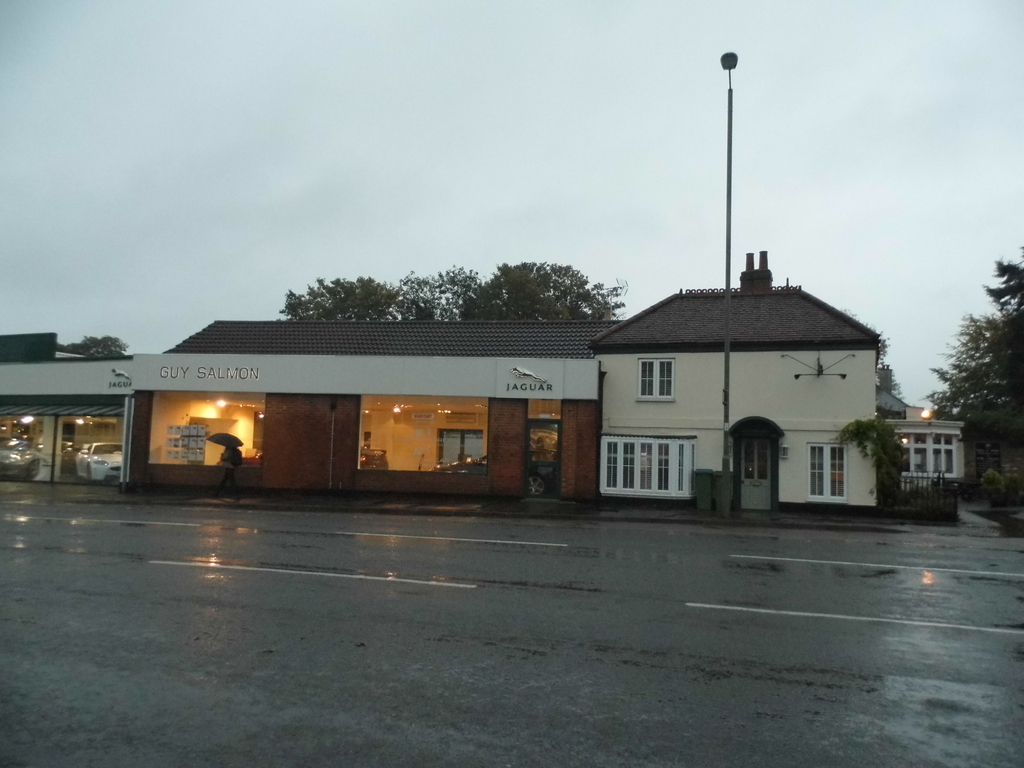Tree: (276, 263, 628, 320), (939, 260, 1024, 471)
